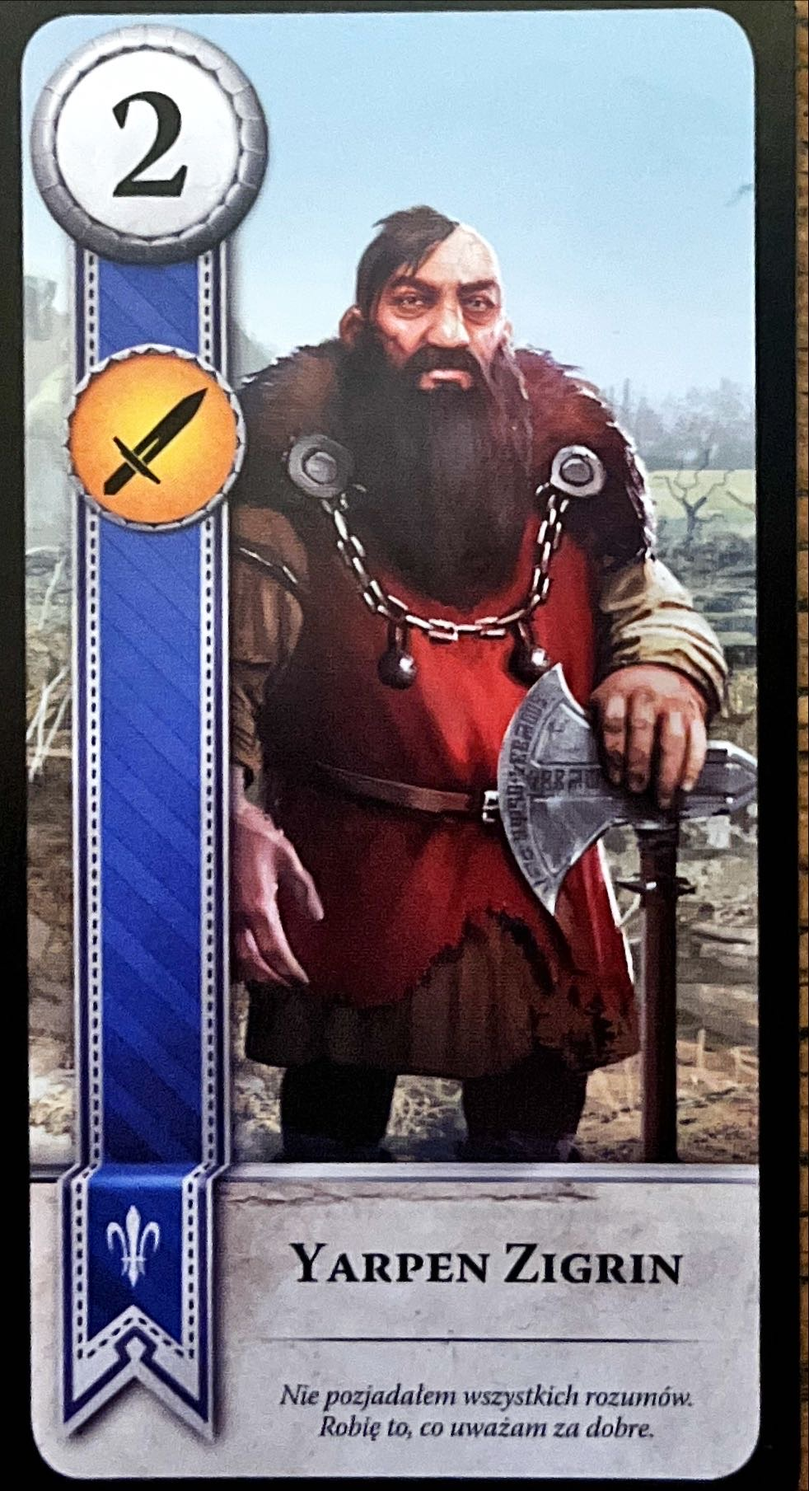2: (28, 26, 270, 262)
miecz: (65, 340, 249, 530)
